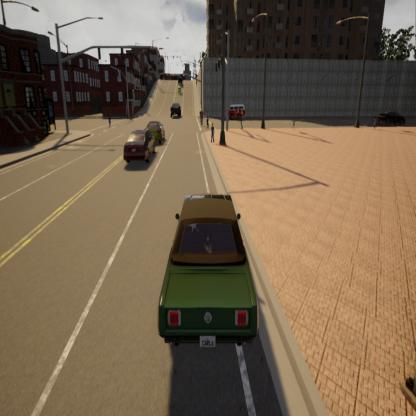Cars: (152, 190, 266, 353), (127, 126, 162, 174), (375, 107, 407, 130), (144, 116, 167, 145), (226, 103, 249, 121), (169, 102, 183, 120)
Pedestrian: (208, 122, 216, 147), (238, 110, 245, 132), (199, 107, 205, 130), (106, 113, 113, 132), (206, 114, 211, 135), (372, 114, 378, 129)
